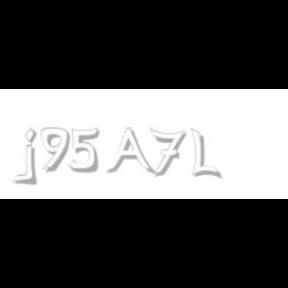5: (68, 128, 100, 174)
7: (150, 128, 186, 178)
9: (40, 128, 70, 172)
A: (106, 128, 154, 176)
L: (191, 128, 219, 180)
j: (22, 128, 51, 186)
